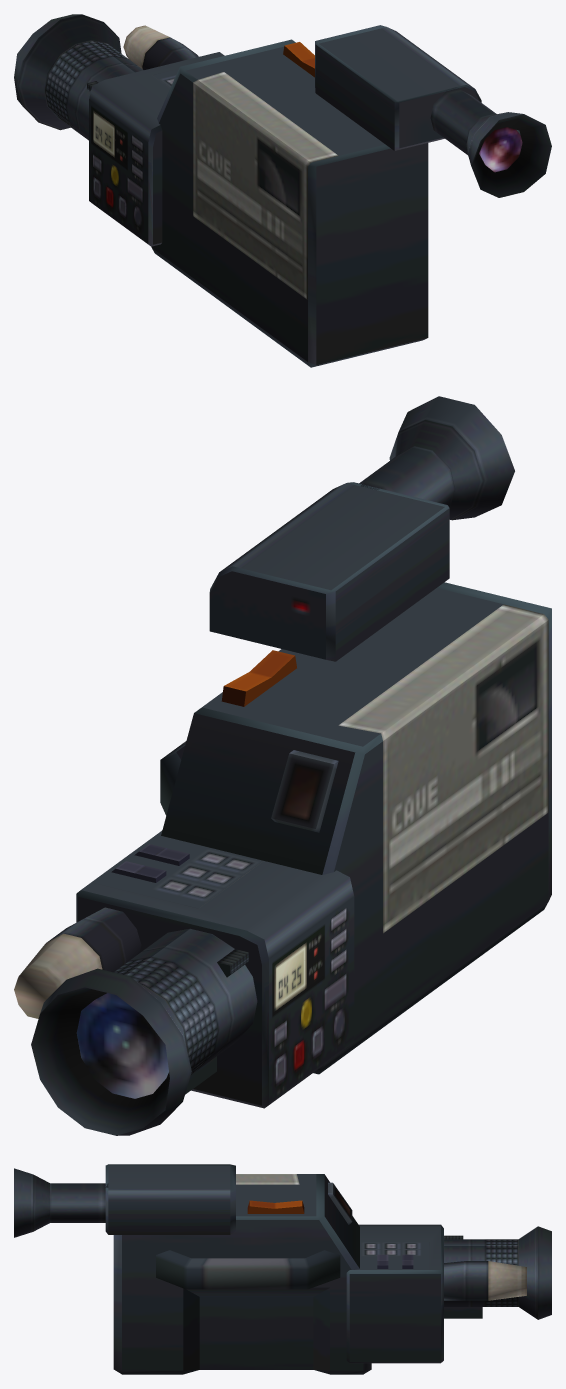
The model's file is icon.ico.obj.
The picture shows the model from 3 angles, top to bottom: view 1: azimuth 30°, elevation 25°; view 2: azimuth 150°, elevation 25°; view 3: azimuth 270°, elevation 25°; orthographic projection. The views are drawn at different scales.
Bounding box in the file's own units: 1.57 × 2.07 × 4.85.
Materials: 1 (1 with a texture image).
